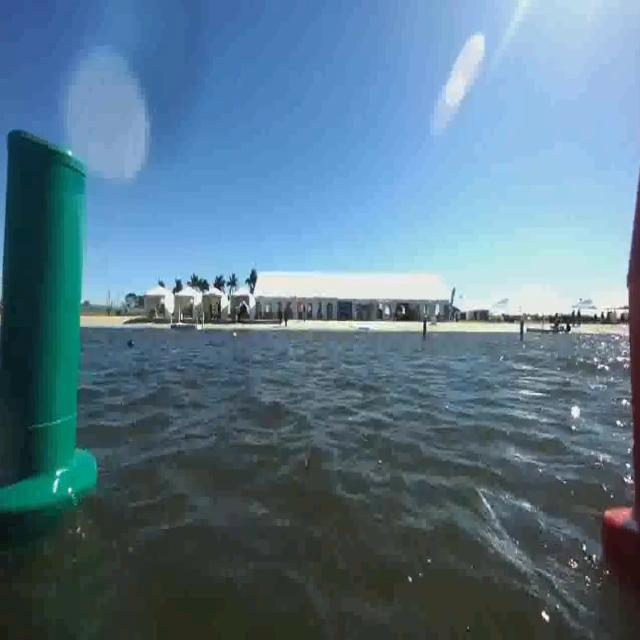green-column-buoy: (0, 119, 97, 533)
